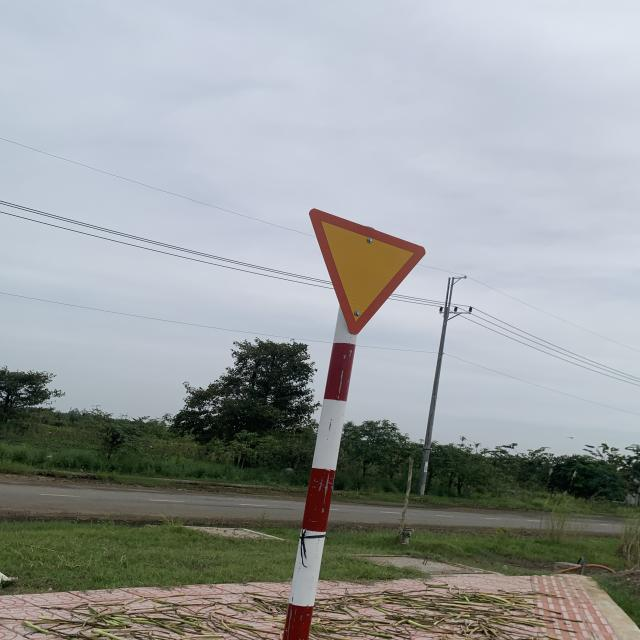Gioi_Han_Toc_Do_25: (307, 207, 432, 338)
